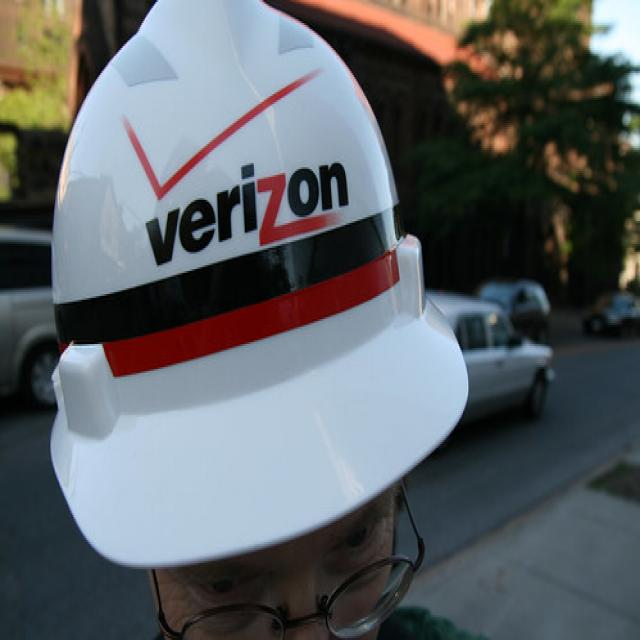Safety-Helmet: (41, 0, 467, 575)
